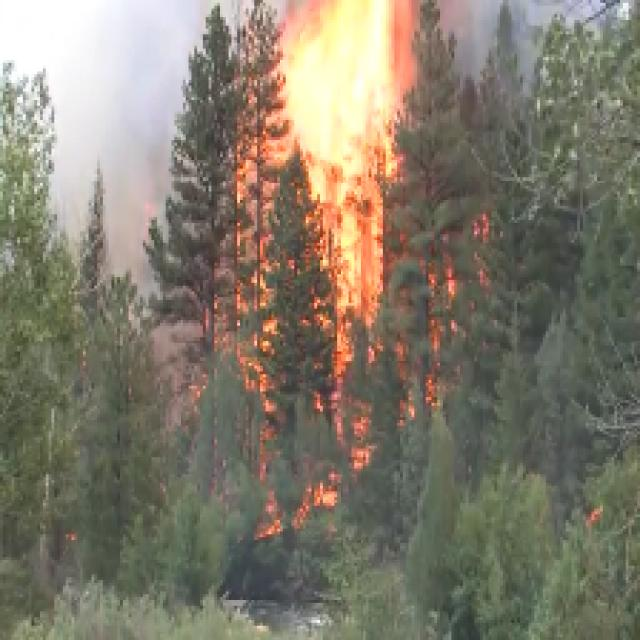fire: (278, 6, 399, 174)
